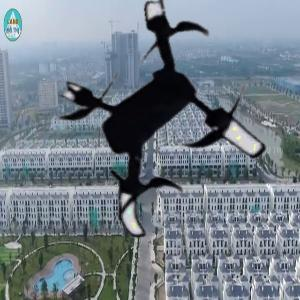drone: (47, 5, 289, 247)
